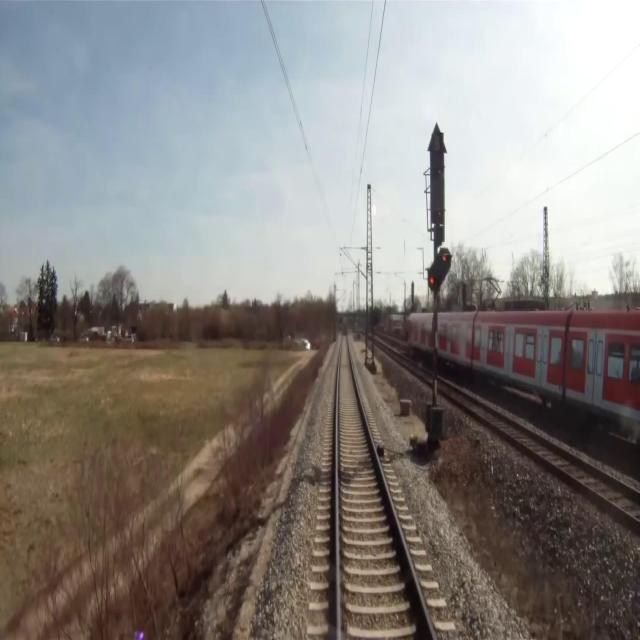rail-track: (339, 329, 432, 639)
